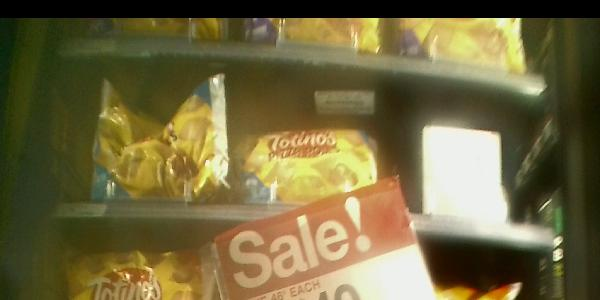icecream: (89, 80, 244, 203), (237, 126, 384, 215)
